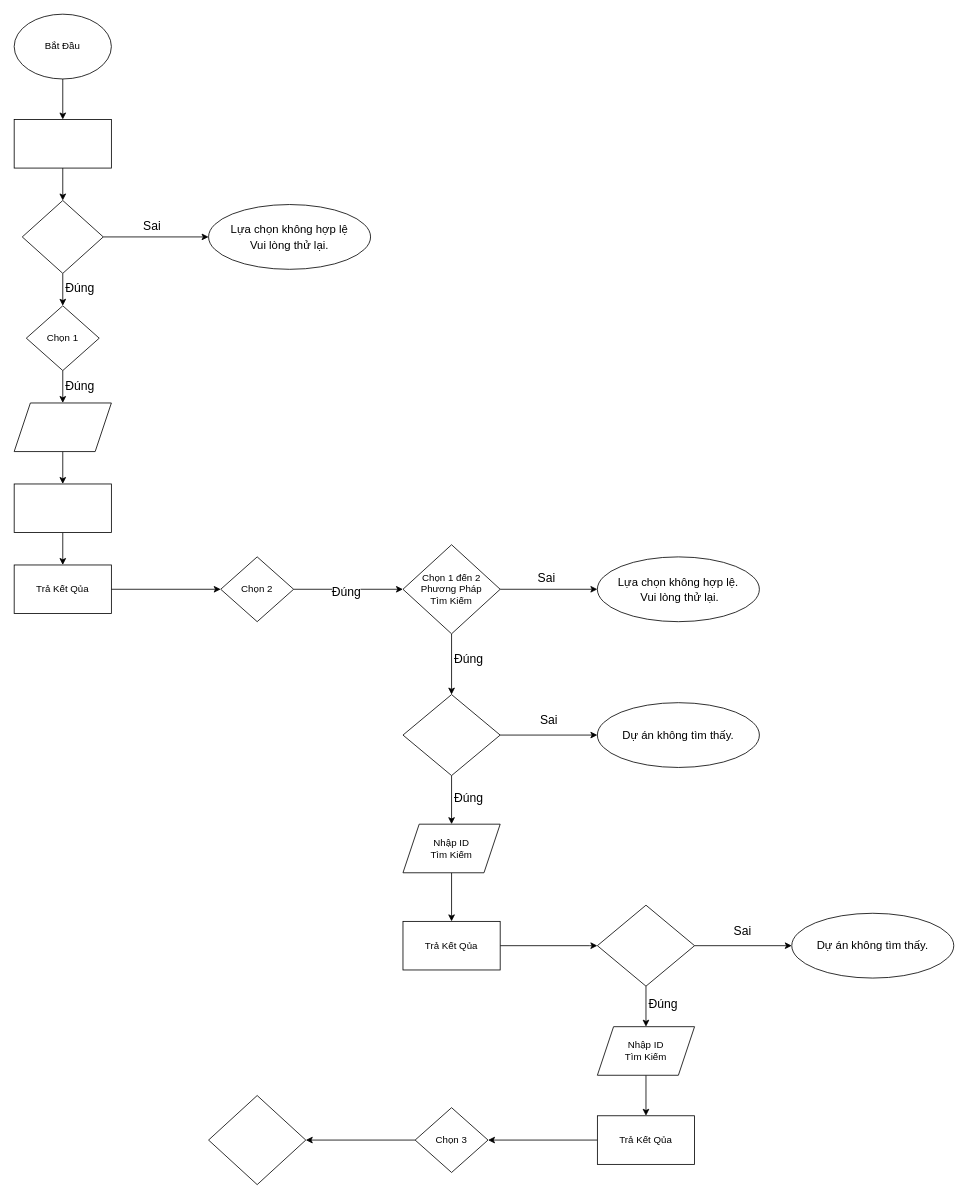
The diagram is 968 pixels wide and 1199 high, and some of its shapes have lost their labels. The centre of each missing label's shape, as x and y in pixels:
Chọn 1 đến 5 Phương Pháp Sắp Xếp: point (257, 1140)
Menu Chương Trình: point (62, 143)
Nhập Thông tin: point (62, 427)
Nhập từ số 1 đến 5: point (62, 236)
Nếu Chọn 1 Tìm Kiếm Tuyến Tính: point (451, 735)
Nếu Chọn 2 Tìm Kiếm Nhị Phân: point (646, 945)
Tạo Dự Án Mới: point (62, 508)
